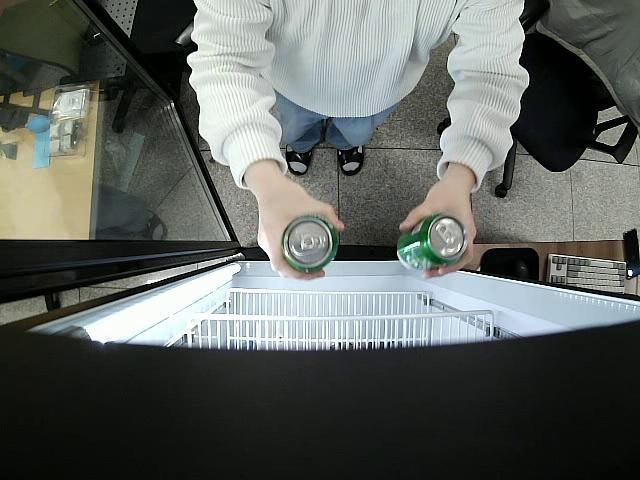12_chilsungCider: (398, 215, 467, 272), (282, 215, 338, 275)
